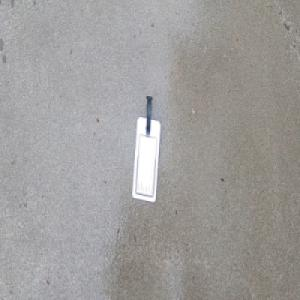LuggageTag: (130, 95, 161, 202)
